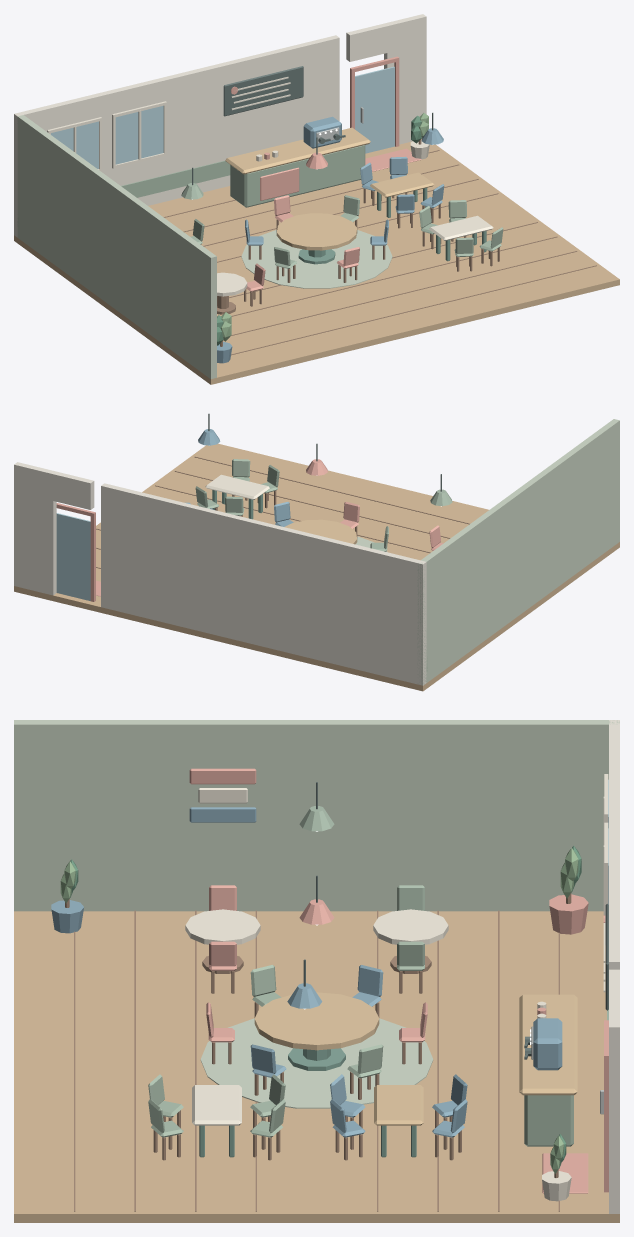
File: echo_world_lowpoly_cafe.glb
3 renders of one model, top to bottom at view 1: azimuth 30°, elevation 25°; view 2: azimuth 150°, elevation 25°; view 3: azimuth 270°, elevation 25°, orthographic. The views are drawn at different scales.
Visible parts, largest first — view 1: GROUND_CafeFloor, ARCH_LeftWall, ARCH_BackWall_Left, DECOR_CentralRug, ARCH_BackWall_Right, GEO_CoffeeBar_Base, GEO_Entrance_Glass, GEO_TABLE_Central6_Top, GEO_MenuBoard, GEO_Window_02_Glass, GEO_CoffeeBar_Top, ARCH_BackSageBand (+10 smaller); view 2: ARCH_BackWall_Left, ARCH_LeftWall, GROUND_CafeFloor, ARCH_BackWall_Right, GEO_Entrance_Glass, ARCH_EntranceHeader, GEO_TABLE_Central6_Top, GEO_TABLE_4_02_Top, GEO_Entrance_Frame_L, DECOR_FloorInlay_01; view 3: GROUND_CafeFloor, ARCH_LeftWall, DECOR_CentralRug, GEO_TABLE_Central6_Top, GEO_CoffeeBar_Top, ARCH_BackWall_Left, GEO_CoffeeBar_Base, ARCH_BackWall_Right, GEO_TABLE_2_01_Top, GEO_TABLE_2_02_Top, GEO_TABLE_4_02_Top, GEO_TABLE_4_01_Top (+16 smaller).
Boxes of the visible parts, <box> form: GROUND_CafeFloor: <box>14,139,619,384</box>; ARCH_LeftWall: <box>17,115,216,378</box>; ARCH_BackWall_Left: <box>14,35,339,237</box>; DECOR_CentralRug: <box>241,230,392,288</box>; ARCH_BackWall_Right: <box>384,14,426,144</box>; GEO_CoffeeBar_Base: <box>230,145,365,207</box>; GEO_Entrance_Glass: <box>355,66,394,153</box>; GEO_TABLE_Central6_Top: <box>276,213,357,250</box>; GEO_MenuBoard: <box>223,66,303,116</box>; GEO_Window_02_Glass: <box>115,105,163,164</box>; GEO_CoffeeBar_Top: <box>225,127,370,174</box>; ARCH_BackSageBand: <box>17,160,230,226</box>; ARCH_BackWall_Left: <box>101,483,426,685</box>; ARCH_LeftWall: <box>417,419,619,684</box>; GROUND_CafeFloor: <box>14,443,619,691</box>; ARCH_BackWall_Right: <box>14,462,56,595</box>; GEO_Entrance_Glass: <box>56,513,90,600</box>; ARCH_EntranceHeader: <box>44,471,94,509</box>; GEO_TABLE_Central6_Top: <box>284,519,357,544</box>; GEO_TABLE_4_02_Top: <box>205,474,269,499</box>; GEO_Entrance_Frame_L: <box>90,512,95,601</box>; DECOR_FloorInlay_01: <box>194,456,469,524</box>; GROUND_CafeFloor: <box>14,911,619,1222</box>; ARCH_LeftWall: <box>14,720,619,911</box>; DECOR_CentralRug: <box>200,1018,433,1108</box>; GEO_TABLE_Central6_Top: <box>254,992,379,1050</box>; GEO_CoffeeBar_Top: <box>519,994,577,1095</box>; ARCH_BackWall_Left: <box>609,720,619,969</box>; GEO_CoffeeBar_Base: <box>524,1095,573,1146</box>; ARCH_BackWall_Right: <box>609,998,619,1213</box>; GEO_TABLE_2_01_Top: <box>373,909,448,944</box>; GEO_TABLE_2_02_Top: <box>185,909,260,944</box>; GEO_TABLE_4_02_Top: <box>192,1085,241,1125</box>; GEO_TABLE_4_01_Top: <box>374,1085,423,1125</box>.
Bounding box in the file's own units: 12 × 3.56 × 10.
